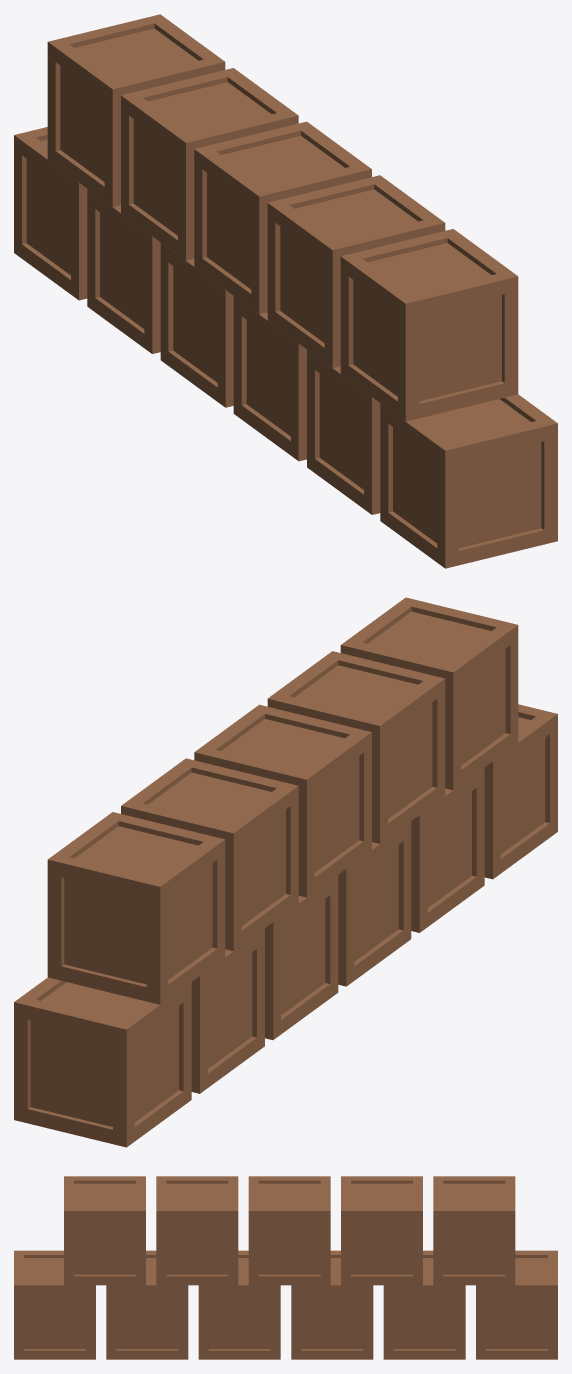
3 renders of one model, top to bottom at view 1: azimuth 30°, elevation 25°; view 2: azimuth 150°, elevation 25°; view 3: azimuth 270°, elevation 25°, orthographic. The views are drawn at different scales.
Visible parts, largest first — view 1: Box130, Box125, Box129, Box126, Box128, Box127, Box120, Box123, Box122, Box124, Box121; view 2: Box126, Box120, Box130, Box129, Box127, Box128, Box125, Box122, Box123, Box121, Box124; view 3: Box129, Box128, Box126, Box130, Box127, Box125, Box120, Box123, Box124, Box122, Box121.
Part boxes in pixels (left/top/right/bottom): Box130: left=340, top=229, right=518, bottom=421; Box125: left=380, top=394, right=557, bottom=568; Box129: left=267, top=175, right=445, bottom=367; Box126: left=47, top=14, right=225, bottom=206; Box128: left=194, top=121, right=371, bottom=314; Box127: left=121, top=68, right=298, bottom=260; Box120: left=14, top=127, right=87, bottom=300; Box123: left=233, top=296, right=306, bottom=461; Box122: left=160, top=242, right=233, bottom=407; Box124: left=307, top=349, right=380, bottom=514; Box121: left=87, top=189, right=160, bottom=353; Box126: left=47, top=812, right=225, bottom=1004; Box120: left=14, top=977, right=191, bottom=1147; Box130: left=340, top=597, right=518, bottom=790; Box129: left=267, top=651, right=445, bottom=843; Box127: left=121, top=758, right=298, bottom=951; Box128: left=194, top=704, right=371, bottom=897; Box125: left=484, top=704, right=557, bottom=879; Box122: left=265, top=875, right=338, bottom=1039; Box123: left=338, top=821, right=411, bottom=986; Box121: left=191, top=928, right=264, bottom=1093; Box124: left=411, top=768, right=484, bottom=932; Box129: left=156, top=1176, right=238, bottom=1285; Box128: left=248, top=1176, right=330, bottom=1285; Box126: left=433, top=1176, right=515, bottom=1285; Box130: left=64, top=1176, right=145, bottom=1285; Box127: left=341, top=1176, right=422, bottom=1285; Box125: left=14, top=1250, right=95, bottom=1359; Box120: left=476, top=1250, right=557, bottom=1359; Box123: left=198, top=1250, right=280, bottom=1359; Box124: left=106, top=1250, right=188, bottom=1359; Box122: left=291, top=1250, right=373, bottom=1359; Box121: left=383, top=1250, right=465, bottom=1359.
Bounding box in the file's own units: 200 × 400 × 1327.
